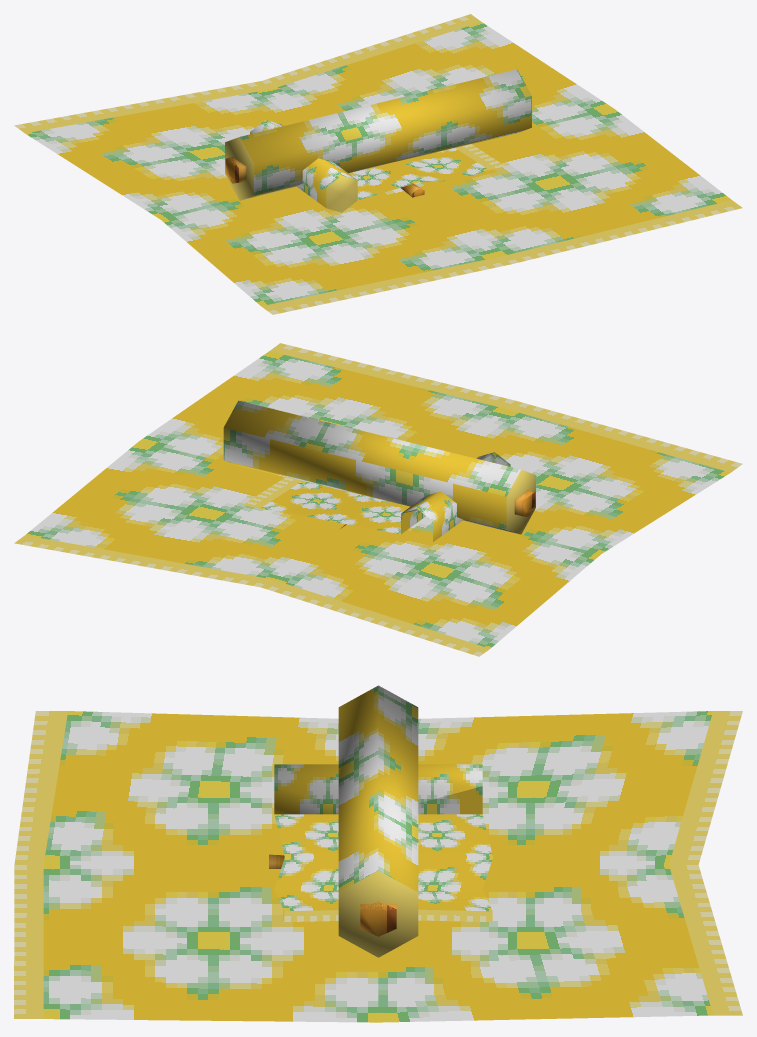
The picture shows the model from 3 angles, top to bottom: view 1: azimuth 30°, elevation 25°; view 2: azimuth 150°, elevation 25°; view 3: azimuth 270°, elevation 25°; orthographic projection. The views are drawn at different scales.
Visible parts, largest first — view 1: 5294ucc_nunoji00; view 2: 5294ucc_nunoji00; view 3: 5294ucc_nunoji00.
Part boxes in pixels (bbox=[...]): 5294ucc_nunoji00: bbox=[14, 14, 742, 314]; 5294ucc_nunoji00: bbox=[14, 343, 742, 656]; 5294ucc_nunoji00: bbox=[14, 685, 742, 1022].
Size of the model in its own units: 2.02 by 0.2949 by 2.
2 materials, 2 textured.
